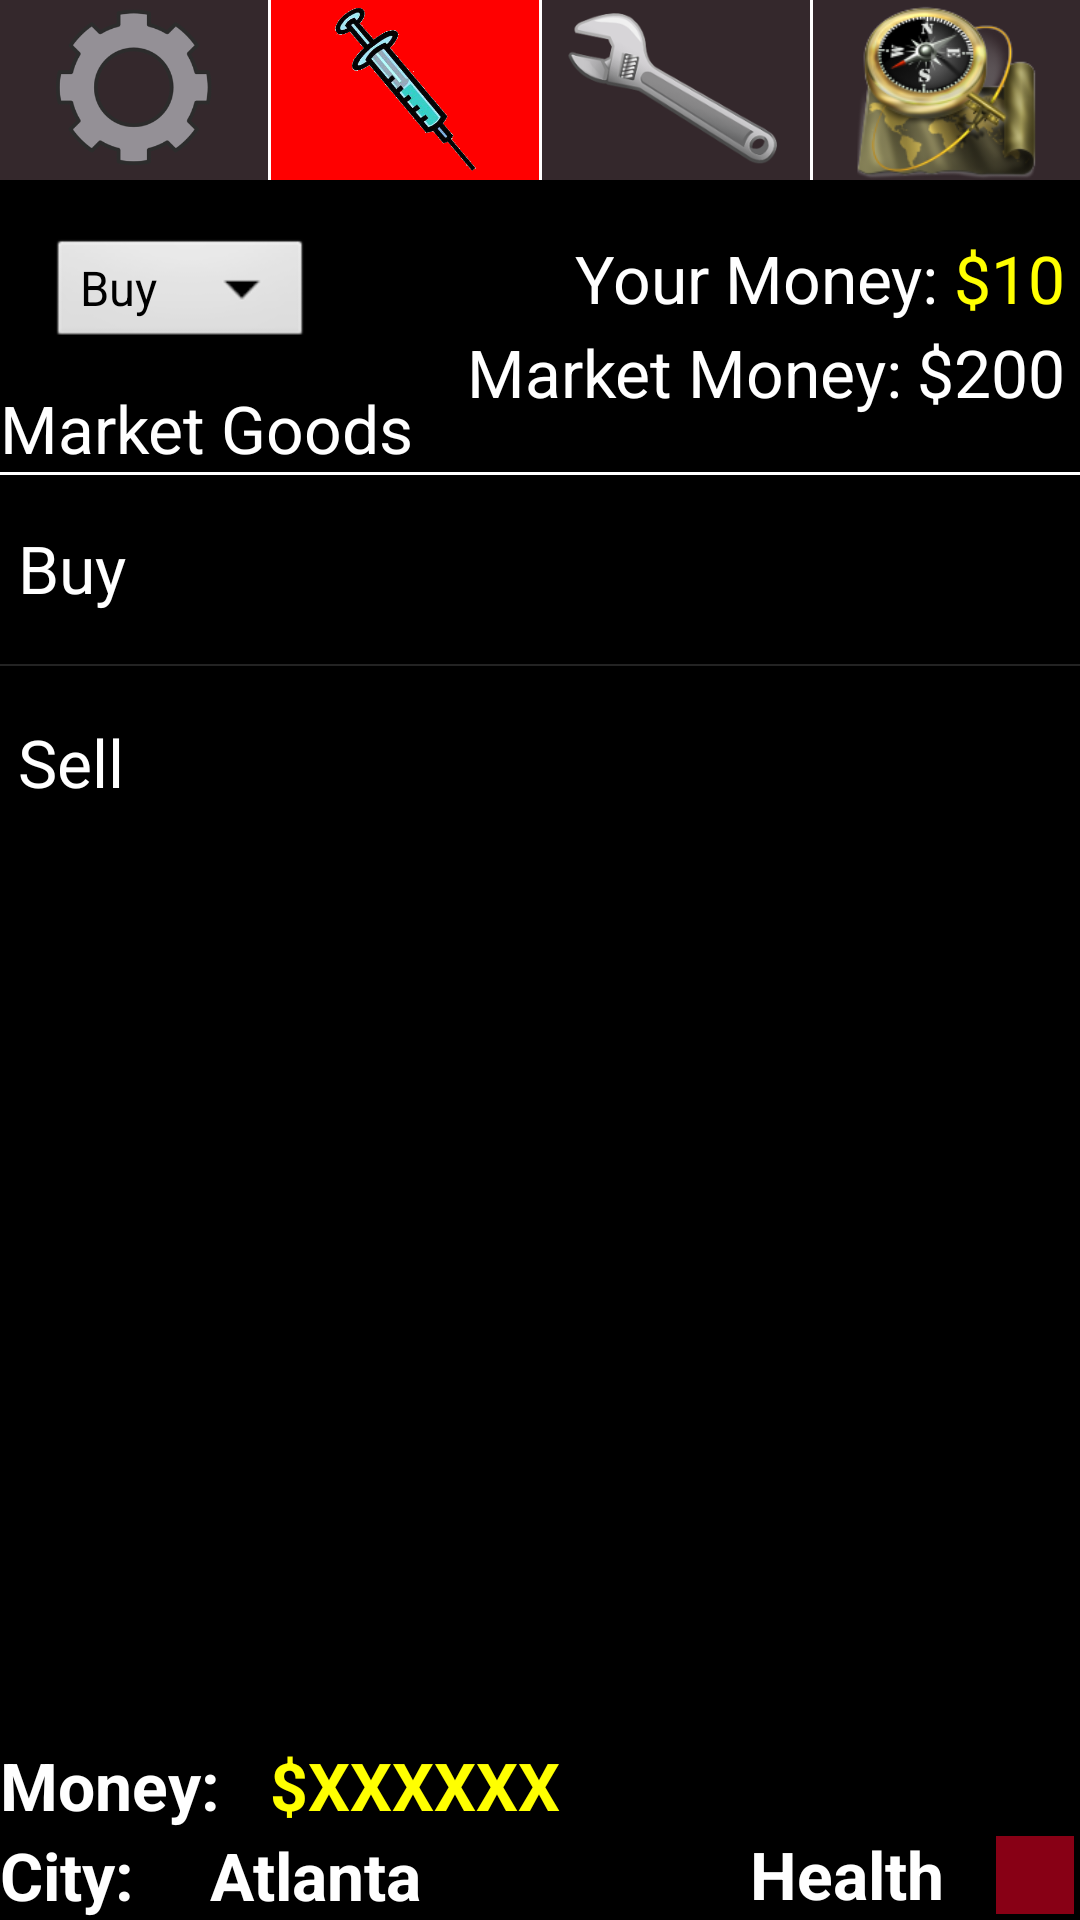

Icons on this 1080 x 1920 Android screen, each with the point to tap as point (x, y):
gear: point (134, 90)
map: point (946, 90)
syringe: point (405, 90)
wrench: point (676, 90)
